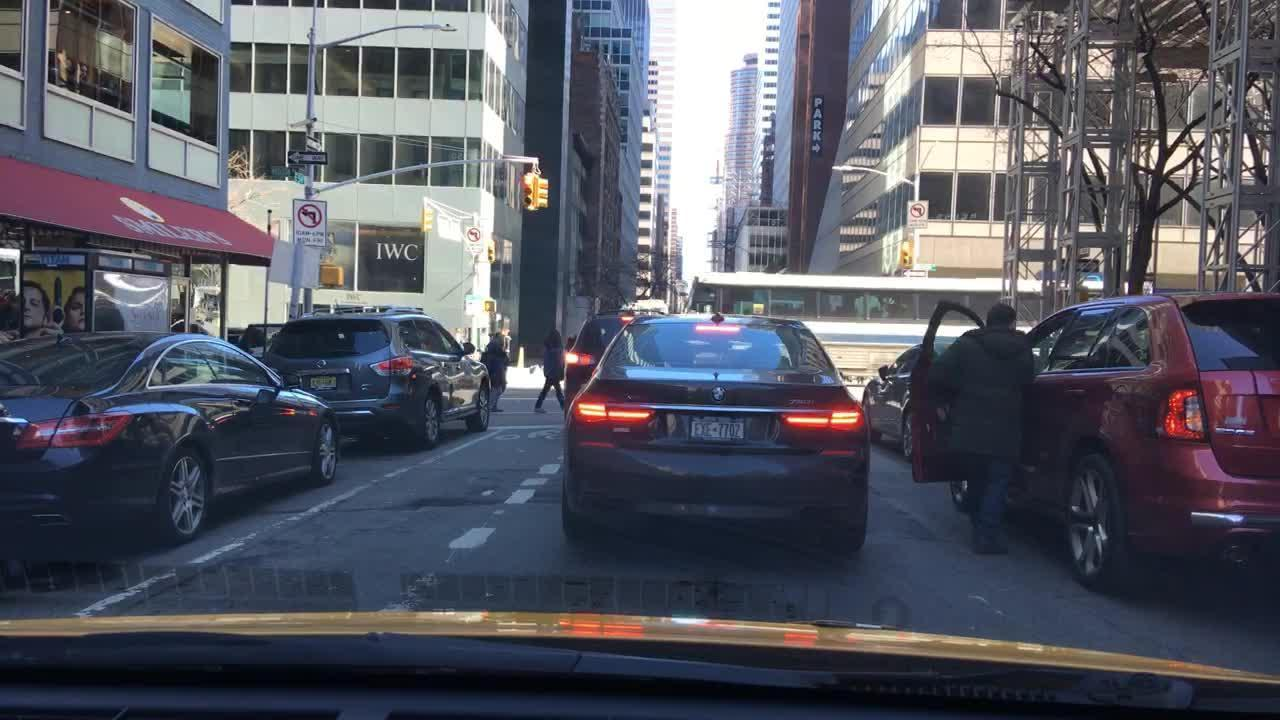Nissan: (312, 356, 329, 373)
bmw: (704, 383, 734, 406)
